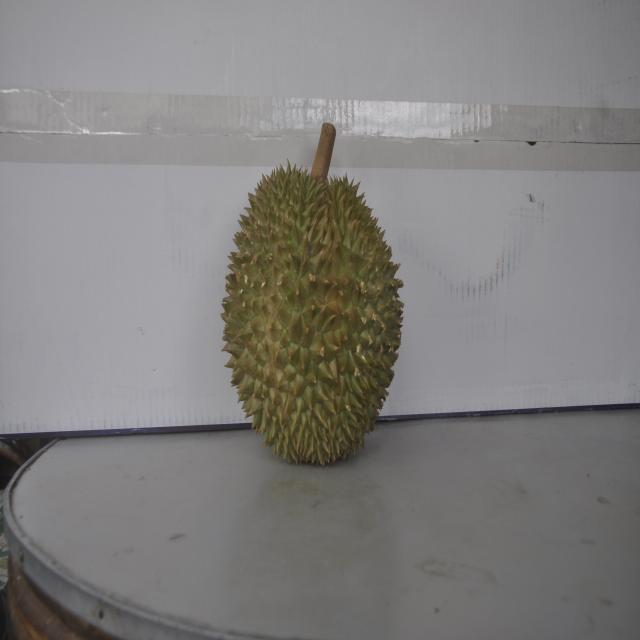mature: (220, 146, 406, 468)
